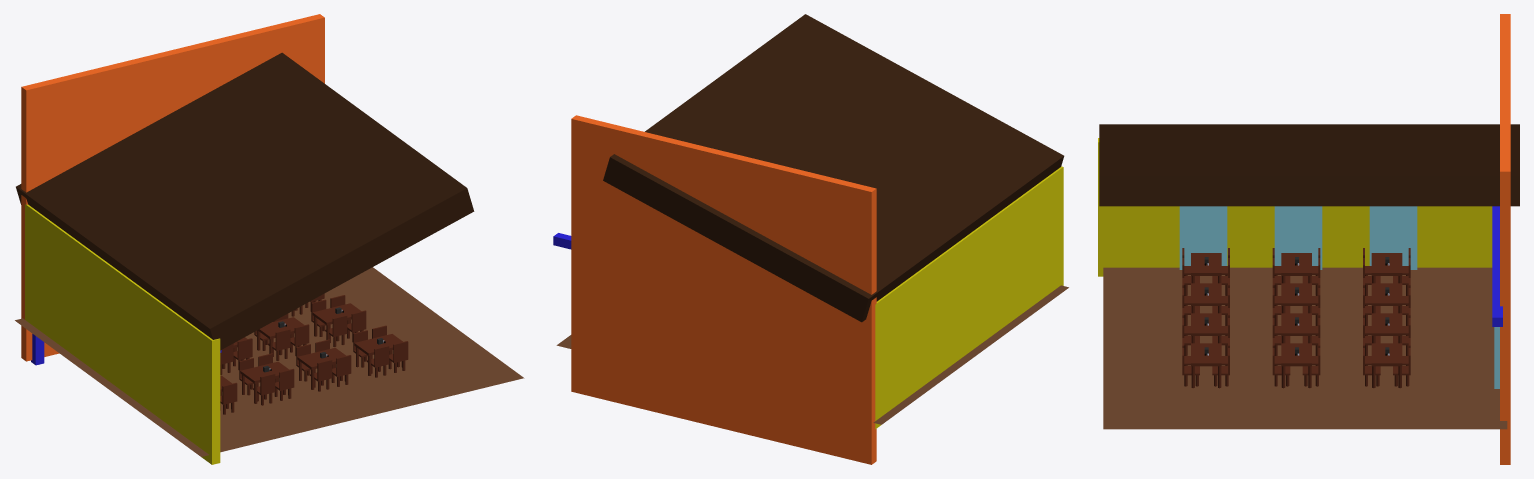
Rendered from MexicanPlaceV1.fbx.
3 views of the same model, side by side, from view 1: azimuth 30°, elevation 25°; view 2: azimuth 150°, elevation 25°; view 3: azimuth 270°, elevation 25° (orthographic). The views are drawn at different scales.
Parts seen in each view (by area): view 1: Cube.004, Cube, Plane, Cube.001, Cylinder.002; view 2: Cube.001, Cube.004, Cube, Plane; view 3: Plane, Cube.004, Cylinder.002, Cube, Cube.003, Cube.001, Cube.005.
Boxes of the visible parts, x1=… form: Cube.004: x1=16, y1=52, x2=474, y2=350; Cube: x1=25, y1=204, x2=220, y2=464; Plane: x1=15, y1=267, x2=524, y2=456; Cube.001: x1=21, y1=14, x2=324, y2=361; Cylinder.002: x1=220, y1=293, x2=408, y2=414; Cube.001: x1=571, y1=115, x2=876, y2=464; Cube.004: x1=603, y1=14, x2=1064, y2=322; Cube: x1=875, y1=166, x2=1063, y2=429; Plane: x1=556, y1=285, x2=1068, y2=424; Plane: x1=1103, y1=267, x2=1507, y2=429; Cube.004: x1=1099, y1=124, x2=1519, y2=206; Cylinder.002: x1=1182, y1=248, x2=1410, y2=388; Cube: x1=1098, y1=138, x2=1492, y2=276; Cube.003: x1=1179, y1=206, x2=1417, y2=269; Cube.001: x1=1500, y1=14, x2=1510, y2=464; Cube.005: x1=1492, y1=206, x2=1502, y2=326.
Size of the model in its own units: 77816 by 62067 by 80033.
